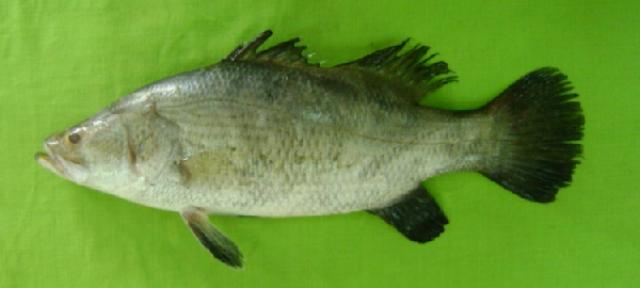Mulut: (7, 114, 83, 196)
Sirip Anal: (352, 174, 460, 256)
Sirip Dada: (158, 134, 266, 204)
Sirip Ekor: (460, 60, 596, 216)
Sirip Perut: (173, 200, 254, 278)
Sirip Punggung: (212, 21, 468, 123)
